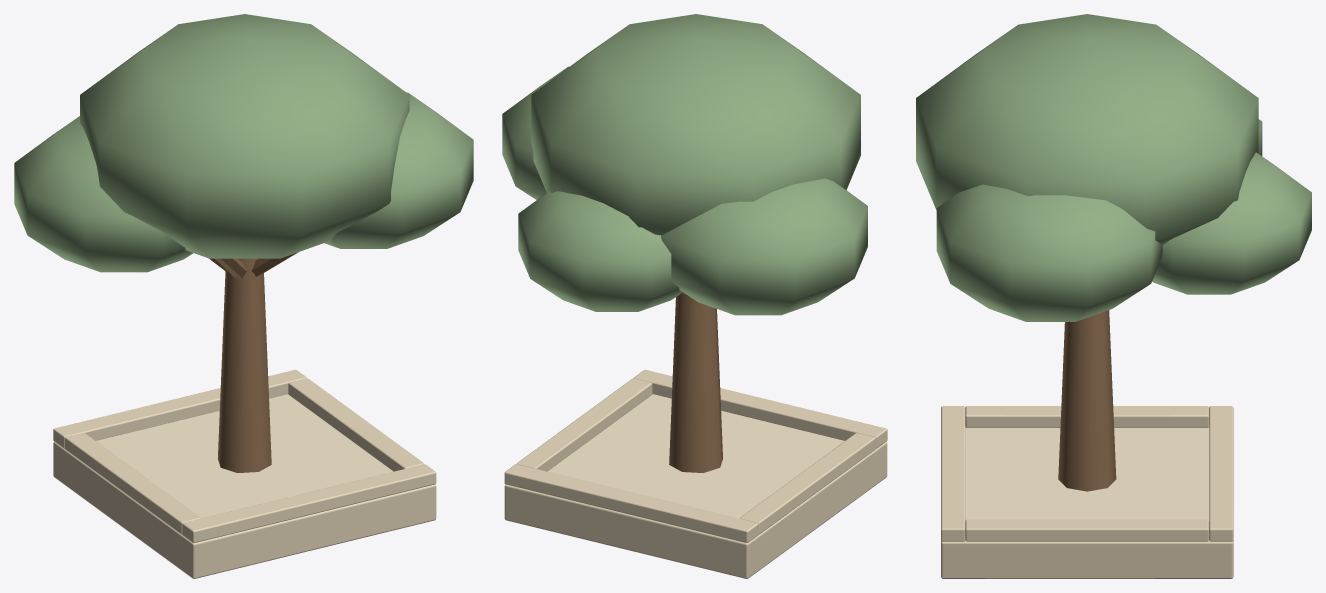
Rendered from courtyard-tree-in--7057a18b.glb.
3 views of the same model, side by side, from view 1: azimuth 30°, elevation 25°; view 2: azimuth 150°, elevation 25°; view 3: azimuth 270°, elevation 25° (orthographic). The views are drawn at different scales.
Parts seen in each view (by area): view 1: courtyard-tree-in-a-well; view 2: courtyard-tree-in-a-well; view 3: courtyard-tree-in-a-well.
Boxes of the visible parts, left/top/right/bottom form: courtyard-tree-in-a-well: left=14, top=14, right=473, bottom=578; courtyard-tree-in-a-well: left=502, top=14, right=887, bottom=578; courtyard-tree-in-a-well: left=916, top=14, right=1311, bottom=578.
Bounding box in the file's own units: 3.74 × 4.33 × 3.25.
